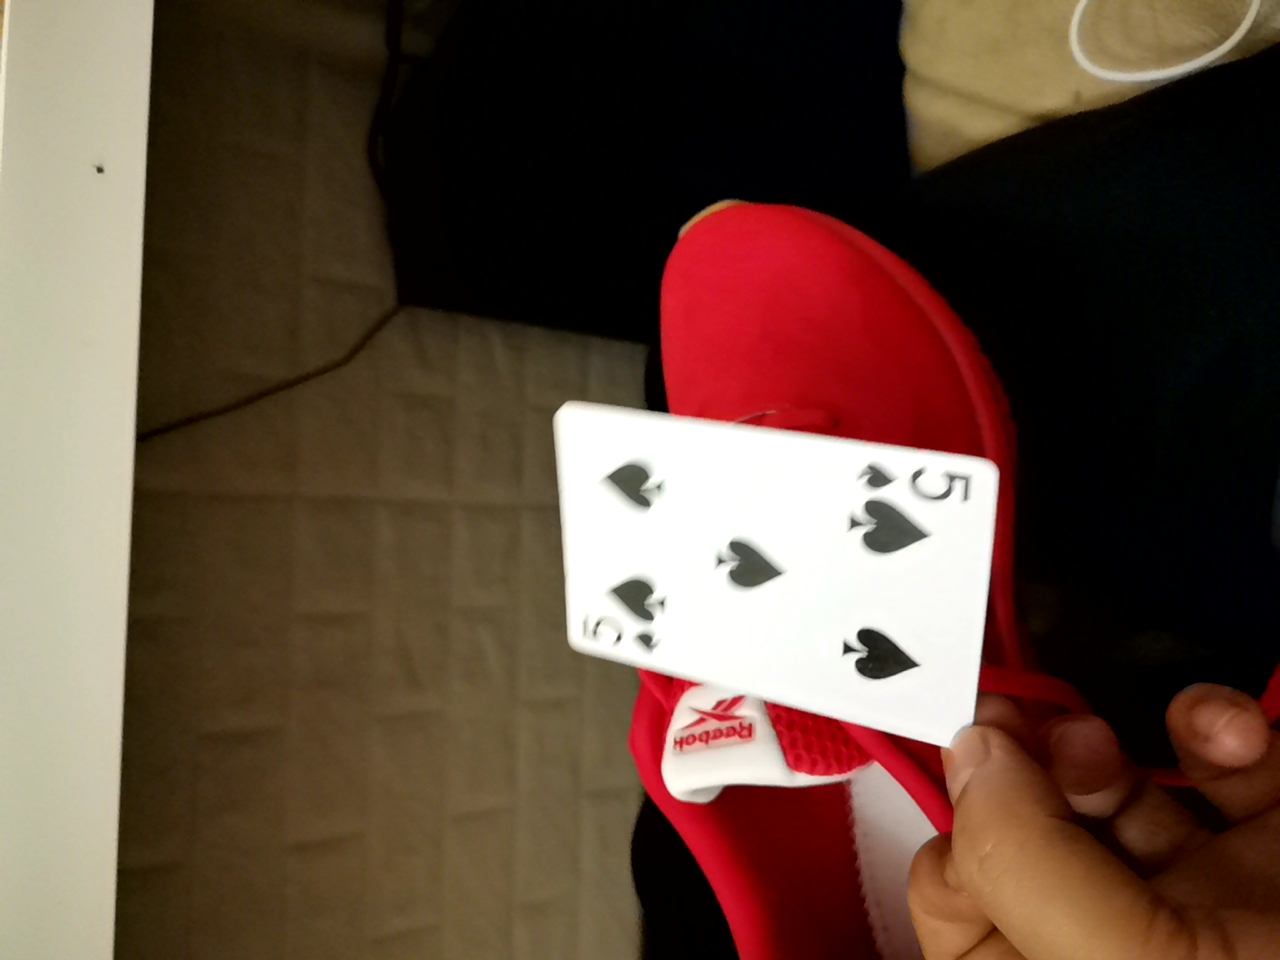ht 5: (522, 409, 978, 751)
